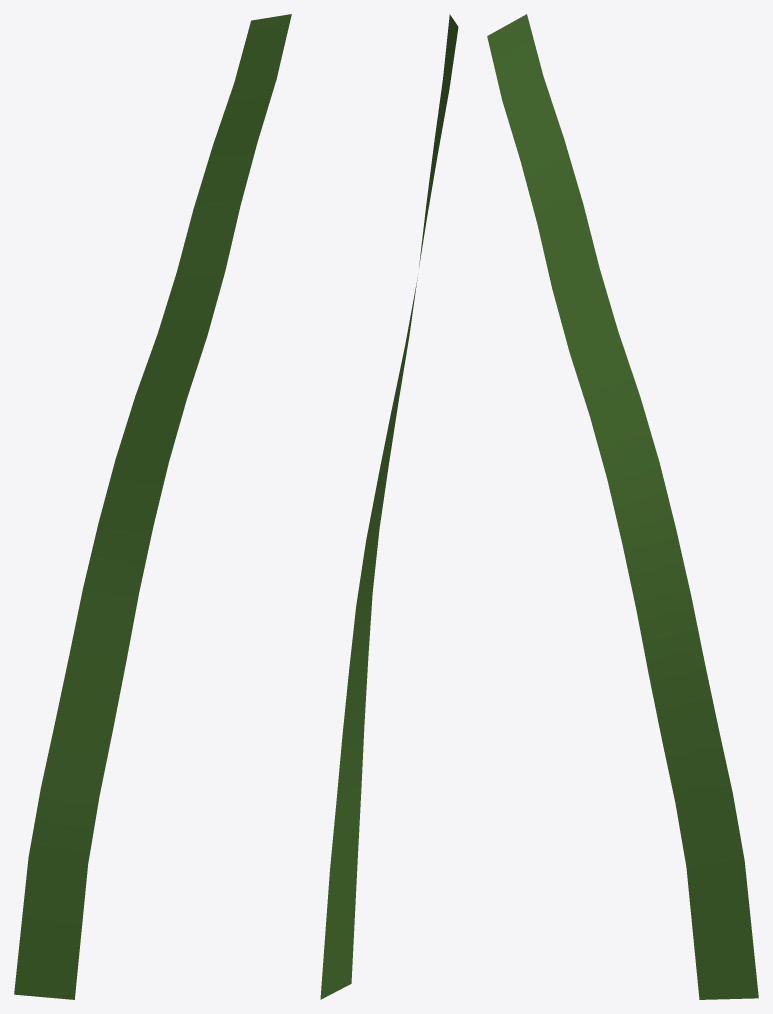
File: plant_swamp_kelp_giant_A_solo_G.fbx
3 renders of one model, left to right at view 1: azimuth 90°, elevation 25°; view 2: azimuth 150°, elevation 25°; view 3: azimuth 270°, elevation 25°, orthographic. The views are drawn at different scales.
Parts seen in each view (by area): view 1: plant_swamp_kelp_giant_A_solo_G; view 2: plant_swamp_kelp_giant_A_solo_G; view 3: plant_swamp_kelp_giant_A_solo_G.
Part boxes in pixels (x1=…): plant_swamp_kelp_giant_A_solo_G: x1=14, y1=14, x2=291, y2=999; plant_swamp_kelp_giant_A_solo_G: x1=320, y1=14, x2=458, y2=999; plant_swamp_kelp_giant_A_solo_G: x1=487, y1=14, x2=758, y2=999.
Size of the model in its own units: 12.03 by 297 by 75.37.
